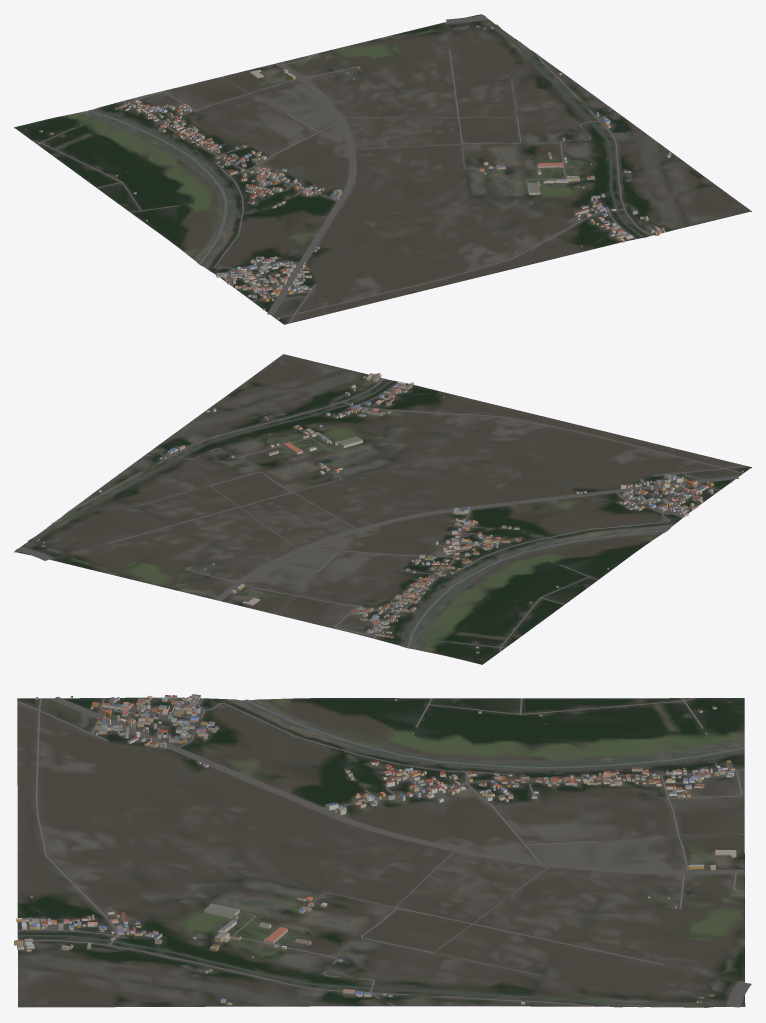
3 views of the same model, one above another, from view 1: azimuth 30°, elevation 25°; view 2: azimuth 150°, elevation 25°; view 3: azimuth 270°, elevation 25° (orthographic). The views are drawn at different scales.
Visible parts, largest first — view 1: ground, buildings, roads, water; view 2: ground, buildings, roads, water; view 3: ground, buildings, roads, water.
Part boxes in pixels (x1,y1,x2,y2): ground: [14, 14, 751, 324]; buildings: [39, 24, 671, 319]; roads: [32, 15, 653, 323]; water: [87, 24, 644, 264]; ground: [14, 354, 751, 664]; buildings: [35, 373, 743, 653]; roads: [15, 377, 746, 651]; water: [28, 380, 667, 648]; ground: [17, 697, 745, 1007]; buildings: [14, 694, 736, 1005]; roads: [17, 697, 751, 1007]; water: [18, 699, 744, 1007].
Size of the model in its own units: 1413 by 21.14 by 1423.
